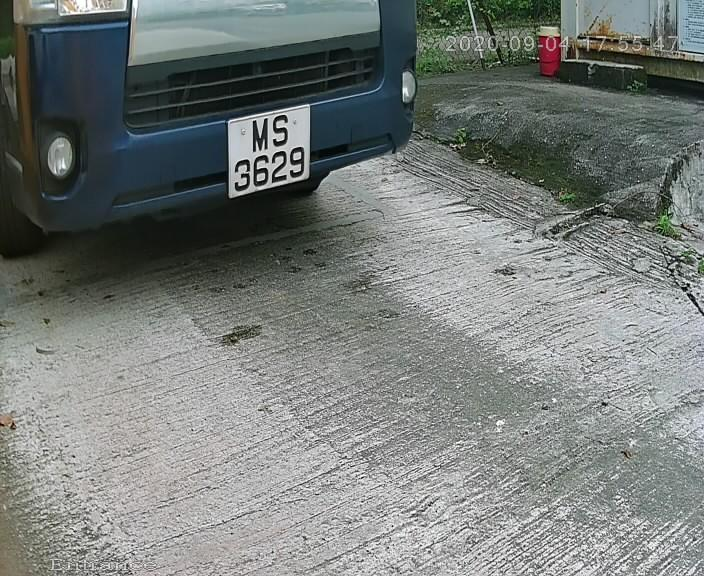Car: (19, 3, 456, 299)
License Plate: (221, 103, 321, 199)
